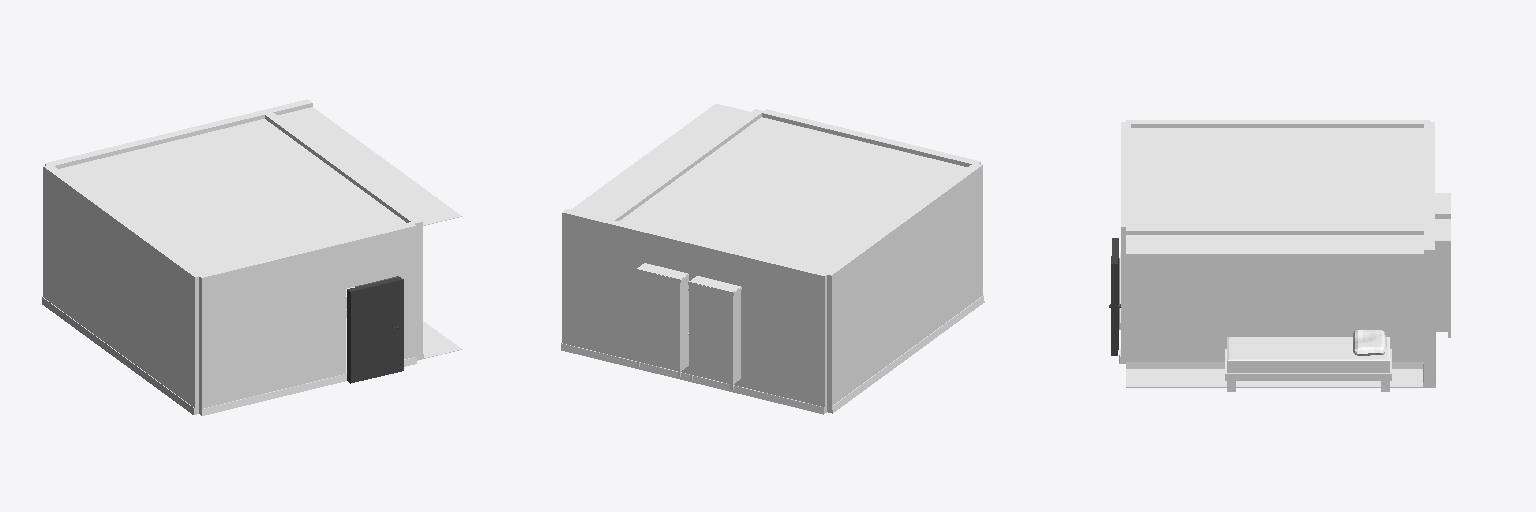
3 renders of one model, left to right at view 1: azimuth 30°, elevation 25°; view 2: azimuth 150°, elevation 25°; view 3: azimuth 270°, elevation 25°, orthographic.
Visible parts, largest first — view 1: WallPiece14, WallPiece6, WallPiece15, WallPiece4, WallPiece5, DoorPiece, Door, FloorOrCeiling152, FloorOrCeiling142, FloorOrCeiling172, FloorOrCeiling162, FloorOrCeiling132 (+11 smaller); view 2: WallPiece9, WallPiece8, WallPiece4, WallPiece5, WallPiece6, Cupboard, Cupboard2, FloorOrCeiling152, FloorOrCeiling162, FloorOrCeiling172, WindowPiece, FloorOrCeiling142 (+10 smaller); view 3: WallPiece3, WallPiece, WallPiece2, Bed, FloorOrCeiling152, FloorOrCeiling172, FloorOrCeiling142, FloorOrCeiling162, FloorOrCeiling132, FloorOrCeiling182, FloorOrCeiling112, FloorOrCeiling122 (+11 smaller).
Boxes of the visible parts, x1,y1,x2,y2 form: WallPiece14: [199, 253, 289, 415]; WallPiece6: [143, 238, 202, 414]; WallPiece15: [246, 242, 333, 404]; WallPiece4: [42, 164, 100, 340]; WallPiece5: [92, 201, 151, 377]; DoorPiece: [325, 222, 416, 383]; Door: [347, 277, 403, 383]; FloorOrCeiling152: [186, 164, 323, 221]; FloorOrCeiling142: [138, 129, 272, 184]; FloorOrCeiling172: [107, 185, 235, 240]; FloorOrCeiling162: [237, 201, 366, 253]; FloorOrCeiling132: [59, 150, 184, 203]; WallPiece9: [736, 251, 826, 414]; WallPiece8: [561, 209, 653, 371]; WallPiece4: [823, 237, 882, 413]; WallPiece5: [873, 200, 933, 375]; WallPiece6: [924, 164, 984, 338]; Cupboard: [688, 276, 741, 389]; Cupboard2: [636, 263, 688, 376]; FloorOrCeiling152: [703, 162, 839, 219]; FloorOrCeiling162: [754, 127, 887, 182]; FloorOrCeiling172: [791, 183, 919, 238]; WindowPiece: [649, 230, 741, 392]; FloorOrCeiling142: [659, 199, 789, 251]; WallPiece3: [1126, 227, 1226, 368]; WallPiece: [1328, 227, 1429, 368]; WallPiece2: [1227, 227, 1327, 336]; Bed: [1225, 330, 1391, 391]; FloorOrCeiling152: [1227, 169, 1327, 211]; FloorOrCeiling172: [1227, 128, 1327, 168]; FloorOrCeiling142: [1328, 169, 1423, 211]; FloorOrCeiling162: [1131, 169, 1226, 211]; FloorOrCeiling132: [1328, 128, 1423, 168]; FloorOrCeiling182: [1131, 128, 1226, 168]; FloorOrCeiling112: [1227, 212, 1327, 254]; FloorOrCeiling122: [1126, 212, 1226, 254].
Size of the model in its own units: 6.37 by 3 by 6.77.